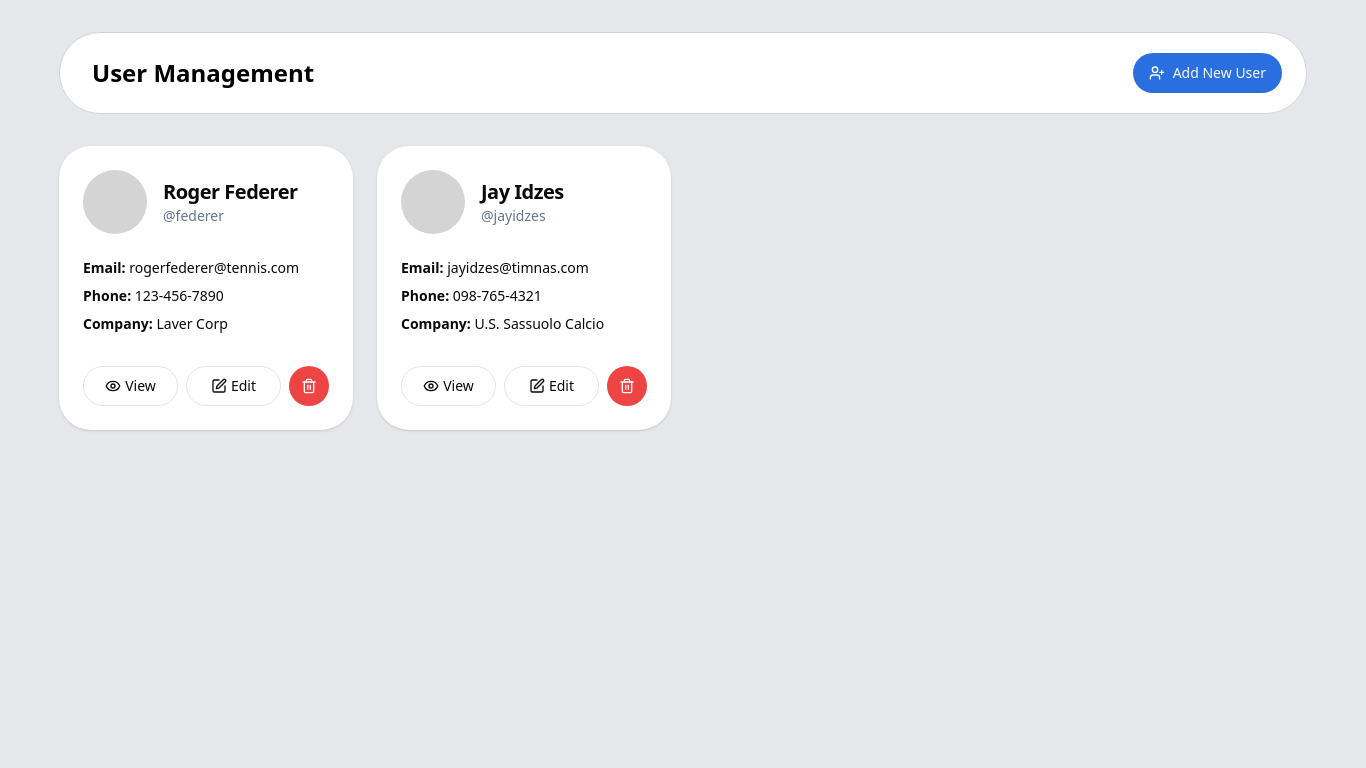
Test case: UserList › should open add user modal when clicking add button
Expected: the heading "Roger Federer" is shown, left=163, top=178, right=298, bottom=205
Click the button "Add New User" at (1207, 73), box left=1133, top=53, right=1282, bottom=93
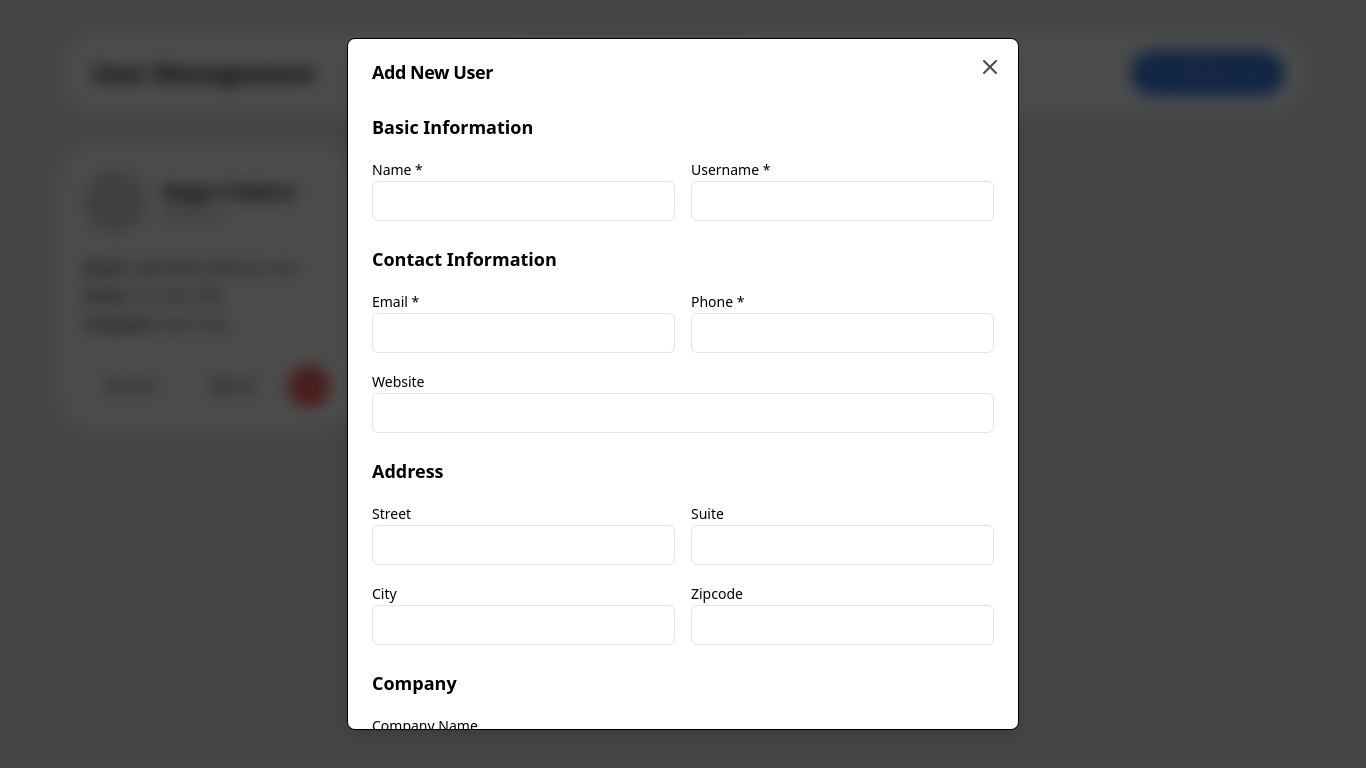
Now the heading "Add New User" is shown, box left=372, top=60, right=493, bottom=84
